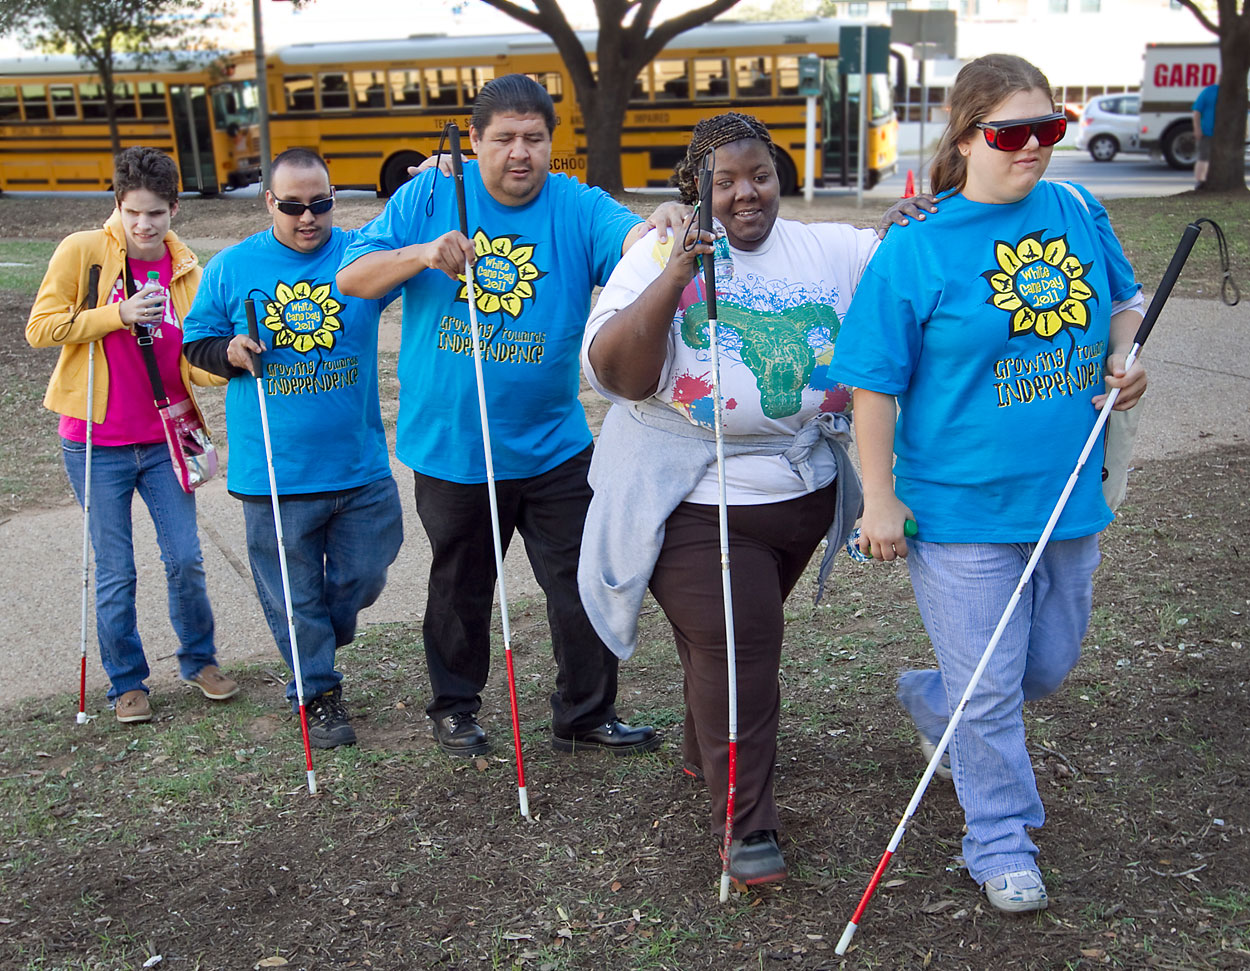Person: (578, 112, 941, 889), (825, 53, 1152, 912), (335, 75, 660, 758), (183, 148, 471, 753), (24, 147, 242, 722)
